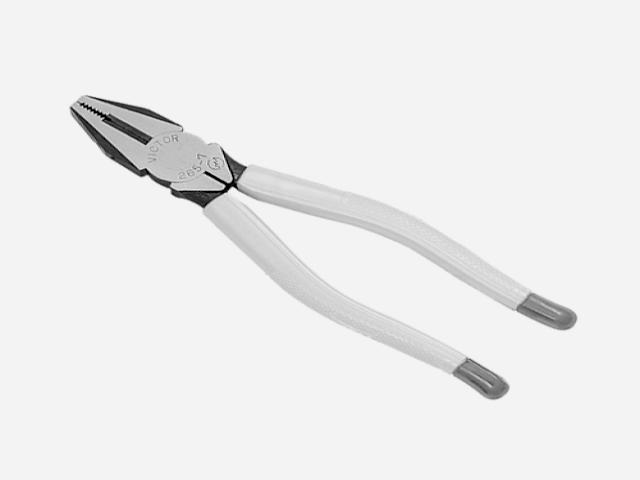Pliers: (71, 96, 576, 399)
